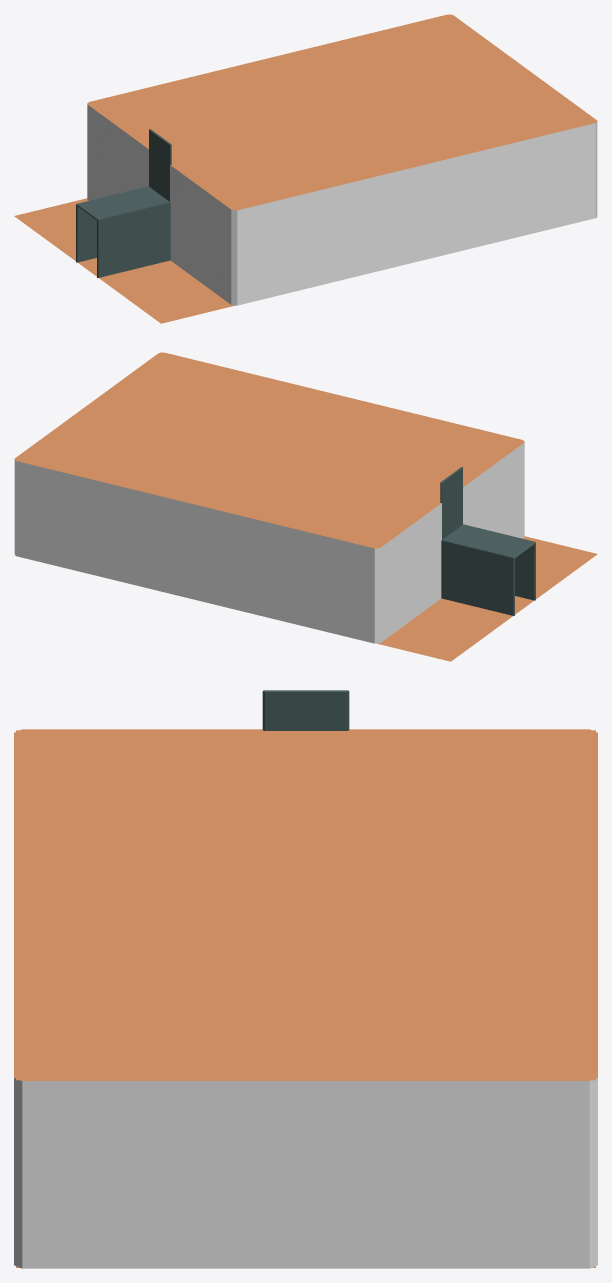
The model's file is room 12.obj.
3 views of the same model, one above another, from view 1: azimuth 30°, elevation 25°; view 2: azimuth 150°, elevation 25°; view 3: azimuth 270°, elevation 25° (orthographic). The views are drawn at different scales.
Parts seen in each view (by area): view 1: result.035_Cube.053, wall.277_wall.002, wall.279_wall.002, wall.239_wall.027, wall.280_wall.002, wall.266_wall.015, wall.263_wall.015, wall.238_wall.025, wall.245_wall.010, wall.240_wall.027, wall.265_wall.015, wall.278_wall.002; view 2: result.035_Cube.053, wall.278_wall.002, wall.280_wall.002, wall.240_wall.027, wall.279_wall.002, wall.265_wall.015, wall.264_wall.015, wall.238_wall.025, wall.245_wall.010, wall.239_wall.027, wall.266_wall.015, wall.277_wall.002; view 3: result.035_Cube.053, wall.276_wall.002, wall.263_wall.015, wall.264_wall.015, wall.245_wall.010, wall.277_wall.002, wall.278_wall.002.
Part boxes in pixels (<box>): result.035_Cube.053: <box>14,14,597,323</box>; wall.277_wall.002: <box>252,126,580,301</box>; wall.279_wall.002: <box>170,164,223,298</box>; wall.239_wall.027: <box>97,202,170,277</box>; wall.280_wall.002: <box>96,111,148,198</box>; wall.266_wall.015: <box>222,203,252,305</box>; wall.263_wall.015: <box>580,114,597,221</box>; wall.238_wall.025: <box>76,186,169,220</box>; wall.245_wall.010: <box>149,129,171,201</box>; wall.240_wall.027: <box>76,186,148,262</box>; wall.265_wall.015: <box>87,98,104,200</box>; wall.278_wall.002: <box>105,18,432,98</box>; result.035_Cube.053: <box>14,352,597,661</box>; wall.278_wall.002: <box>31,464,359,639</box>; wall.280_wall.002: <box>388,503,441,636</box>; wall.240_wall.027: <box>441,540,514,615</box>; wall.279_wall.002: <box>463,449,515,536</box>; wall.265_wall.015: <box>359,541,389,643</box>; wall.264_wall.015: <box>14,452,31,559</box>; wall.238_wall.025: <box>442,524,535,558</box>; wall.245_wall.010: <box>440,467,462,539</box>; wall.239_wall.027: <box>463,524,535,600</box>; wall.266_wall.015: <box>507,436,524,538</box>; wall.277_wall.002: <box>179,356,506,436</box>; result.035_Cube.053: <box>16,730,595,1267</box>; wall.276_wall.002: <box>57,1079,554,1268</box>; wall.263_wall.015: <box>14,1062,57,1268</box>; wall.264_wall.015: <box>554,1062,597,1268</box>; wall.245_wall.010: <box>262,690,349,730</box>; wall.277_wall.002: <box>14,747,17,1062</box>; wall.278_wall.002: <box>594,747,597,1062</box>.
Bounding box in the file's own units: 24.1 × 6.04 × 14.1.
